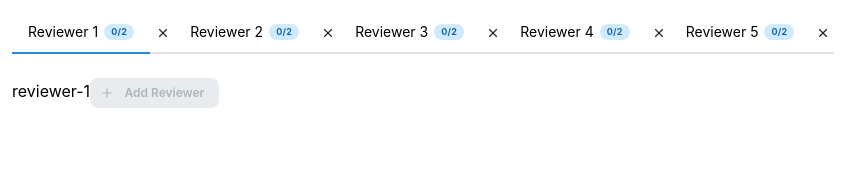
Test case: ReviewerTabs › adds reviewers and disables the persistent control at the reviewer cap
Check: the button with test id "add-reviewer" is disabled, box [90,78,219,108]
Hover over the element showing "Add Reviewer".
mouse_move(155, 92)  # box [90,82,219,102]
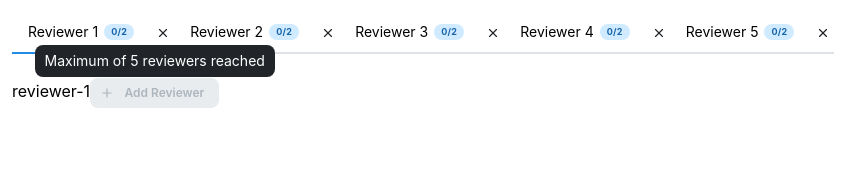
Check: the tooltip "Maximum of 5 reviewers reached" is shown, box [35,45,275,77]
